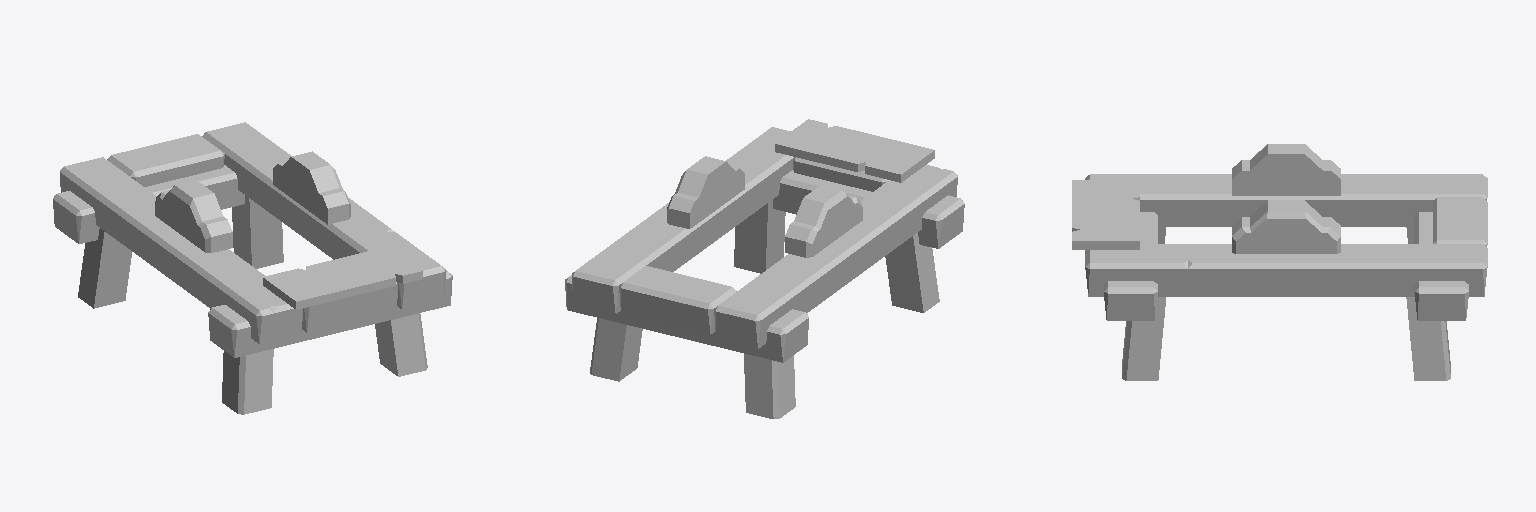
The model's file is grindstone.obj.
The picture shows the model from 3 angles: view 1: azimuth 30°, elevation 25°; view 2: azimuth 150°, elevation 25°; view 3: azimuth 270°, elevation 25°; orthographic projection.
Parts seen in each view (by area): view 1: grindstone; view 2: grindstone; view 3: grindstone.
Part boxes in pixels (bbox=[...]): grindstone: bbox=[53, 122, 452, 414]; grindstone: bbox=[565, 119, 964, 418]; grindstone: bbox=[1072, 144, 1487, 380].
Bounding box in the file's own units: 1.4 × 0.95 × 2.27.